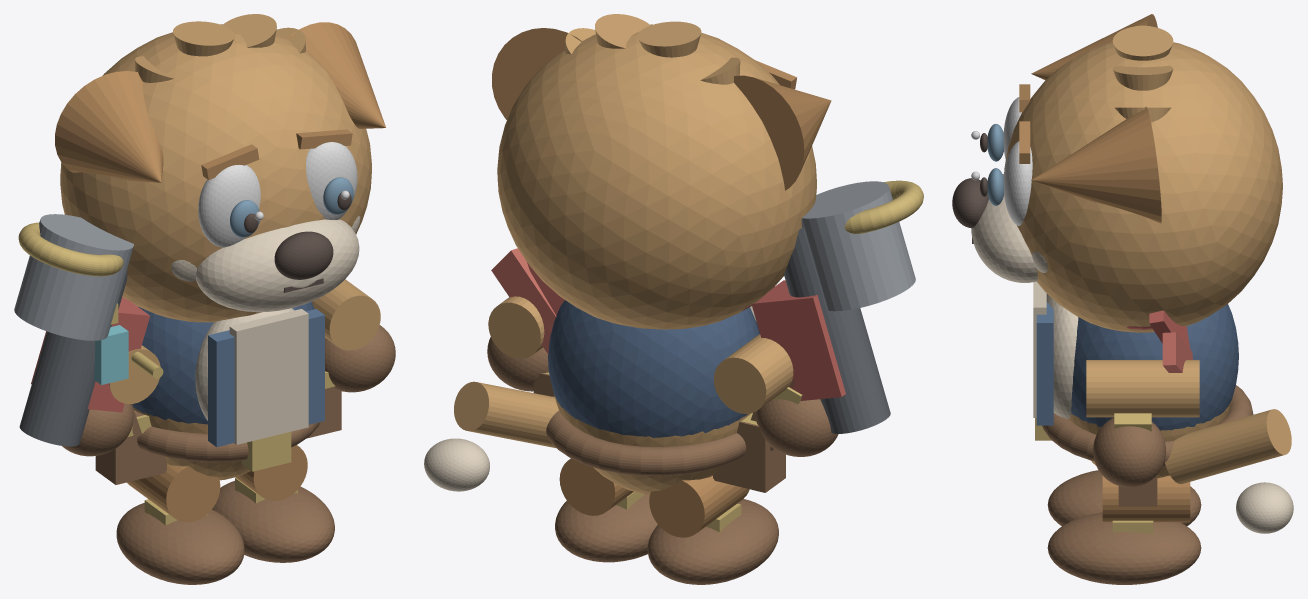
The model's file is Brisky_Remastered_Prototype_V1.glb.
The picture shows the model from 3 angles, left to right: view 1: azimuth 30°, elevation 25°; view 2: azimuth 150°, elevation 25°; view 3: azimuth 270°, elevation 25°; orthographic projection. The views are drawn at different scales.
Parts seen in each view (by area): view 1: Head, EarOuter_-1, ShirtFront, GunMuzzle, Muzzle, Boot_-1, GunBarrel, Boot_1, Vest, EarOuter_1, Leg_-1, EyeWhite_-1 (+25 smaller); view 2: Head, Vest, GunMuzzle, GunBarrel, Boot_-1, GunCore, Belt, EarOuter_-1, TailBase, Boot_1, UpperArm_-1, Leg_-1 (+12 smaller); view 3: Head, Vest, Boot_1, EarOuter_1, UpperArm_1, TailBase, Glove_1, Muzzle, Leg_1, Boot_-1, ChestFur, TailTip (+19 smaller).
Part boxes in pixels (x1,y1,x2,y2): Head: (60, 24, 371, 322); EarOuter_-1: (55, 71, 163, 182); ShirtFront: (229, 309, 308, 444); GunMuzzle: (14, 214, 133, 340); Muzzle: (196, 219, 359, 312); Boot_-1: (116, 503, 244, 584); GunBarrel: (19, 269, 127, 446); Boot_1: (212, 481, 334, 562); Vest: (132, 301, 314, 424); EarOuter_1: (286, 22, 385, 128); Leg_-1: (127, 464, 220, 522); EyeWhite_-1: (198, 165, 260, 247); Head: (497, 24, 816, 329); Vest: (548, 300, 759, 437); GunMuzzle: (801, 181, 915, 311); GunBarrel: (784, 227, 890, 433); Boot_-1: (647, 499, 778, 584); GunCore: (752, 280, 845, 400); Belt: (546, 395, 746, 476); EarOuter_-1: (734, 75, 831, 190); TailBase: (454, 381, 558, 448); Boot_1: (555, 494, 657, 562); UpperArm_-1: (714, 334, 793, 413); Leg_-1: (649, 476, 749, 537); Head: (1004, 42, 1282, 332); Vest: (1071, 304, 1238, 430); Boot_1: (1047, 512, 1201, 584); EarOuter_1: (1031, 107, 1161, 223); UpperArm_1: (1086, 360, 1199, 417); TailBase: (1165, 409, 1291, 484); Glove_1: (1093, 417, 1165, 487); Muzzle: (971, 174, 1037, 282); Leg_1: (1102, 475, 1190, 522); Boot_-1: (1047, 470, 1201, 525); ChestFur: (1046, 294, 1078, 418); TailTip: (1236, 482, 1293, 533).
Bounding box in the file's own units: 2.59 × 3.33 × 2.02.
